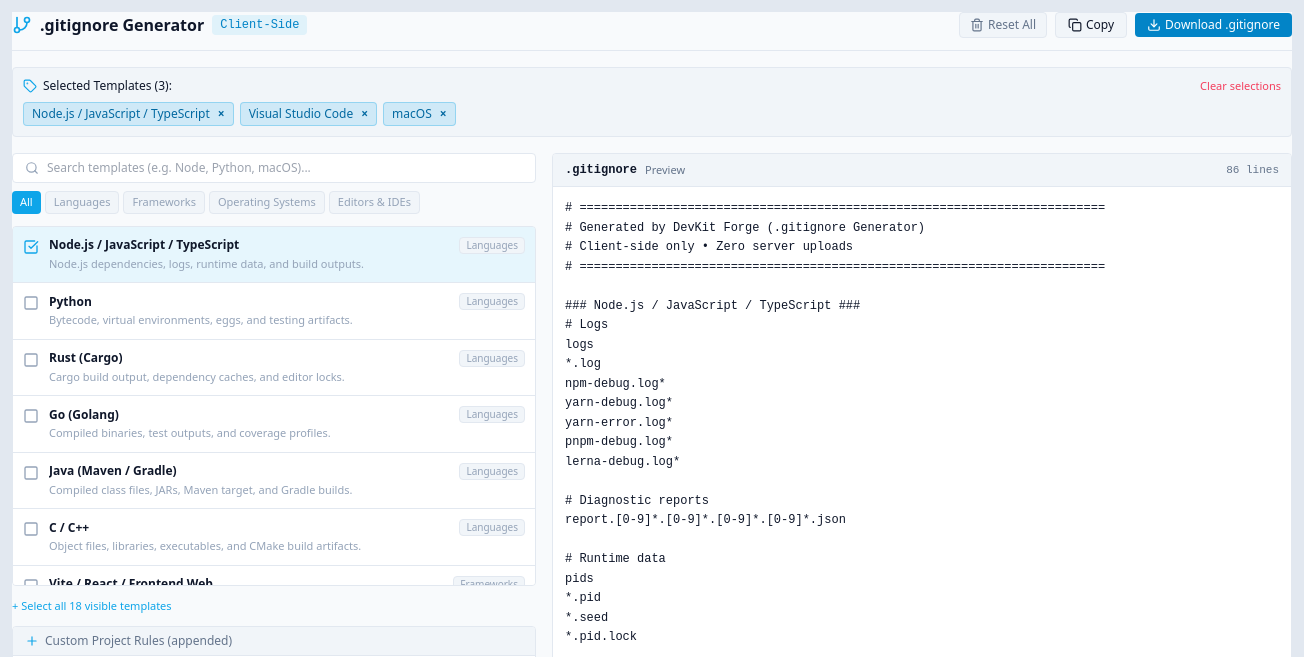
it: GitignoreGenerator Component › resets all selected templates when Reset All is clicked
This screenshot has width=1304, height=657.
What coordinates should you click on to do the following:
click the button titled "Deselect all templates"
I would click on:
 (1003, 25)
Its box is [959, 12, 1047, 38].
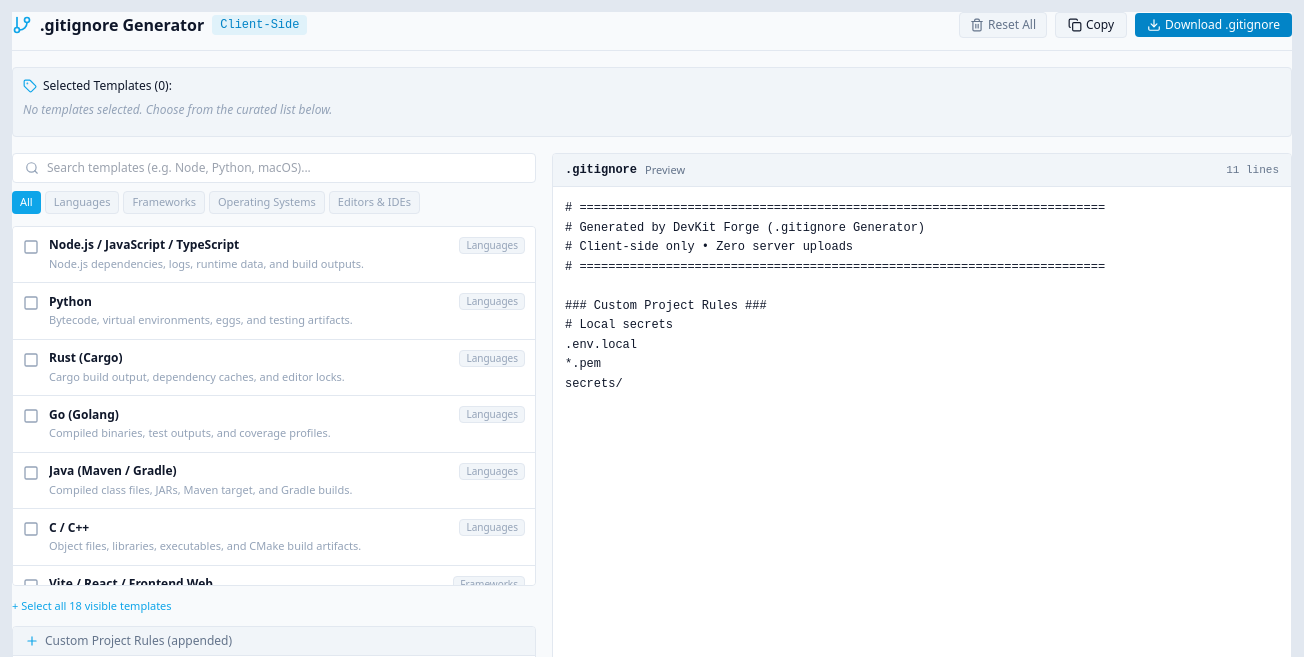
Now the text "Selected Templates (0):" is shown, box [43, 78, 172, 94]
Now the text "No templates selected. Choose from the curated list below." is shown, box [23, 102, 332, 126]
